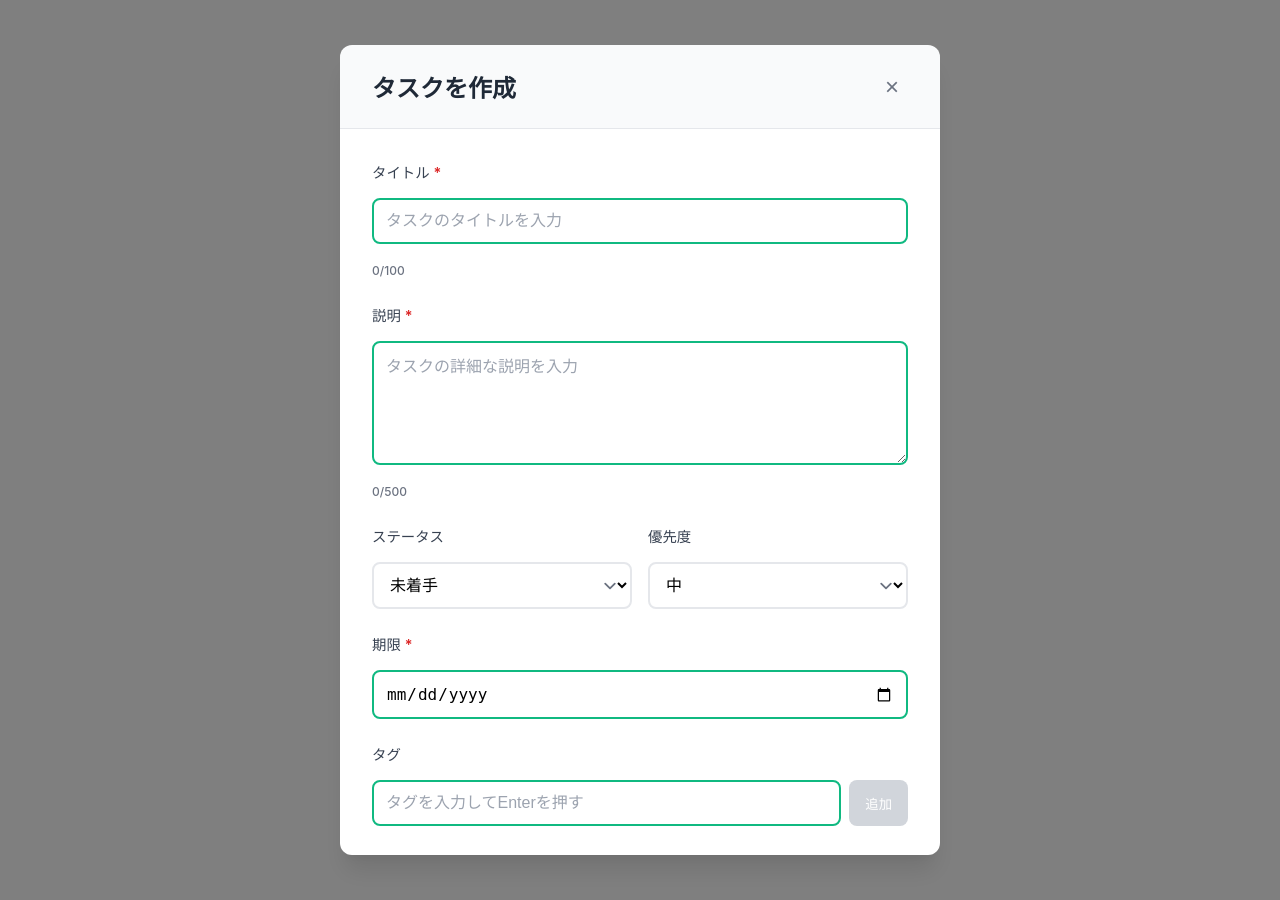
Test: TaskForm Component › shows character count for title and description
In the field labelled "タイトル *": coordinates (640, 221) [372, 198, 908, 244], type "Test"
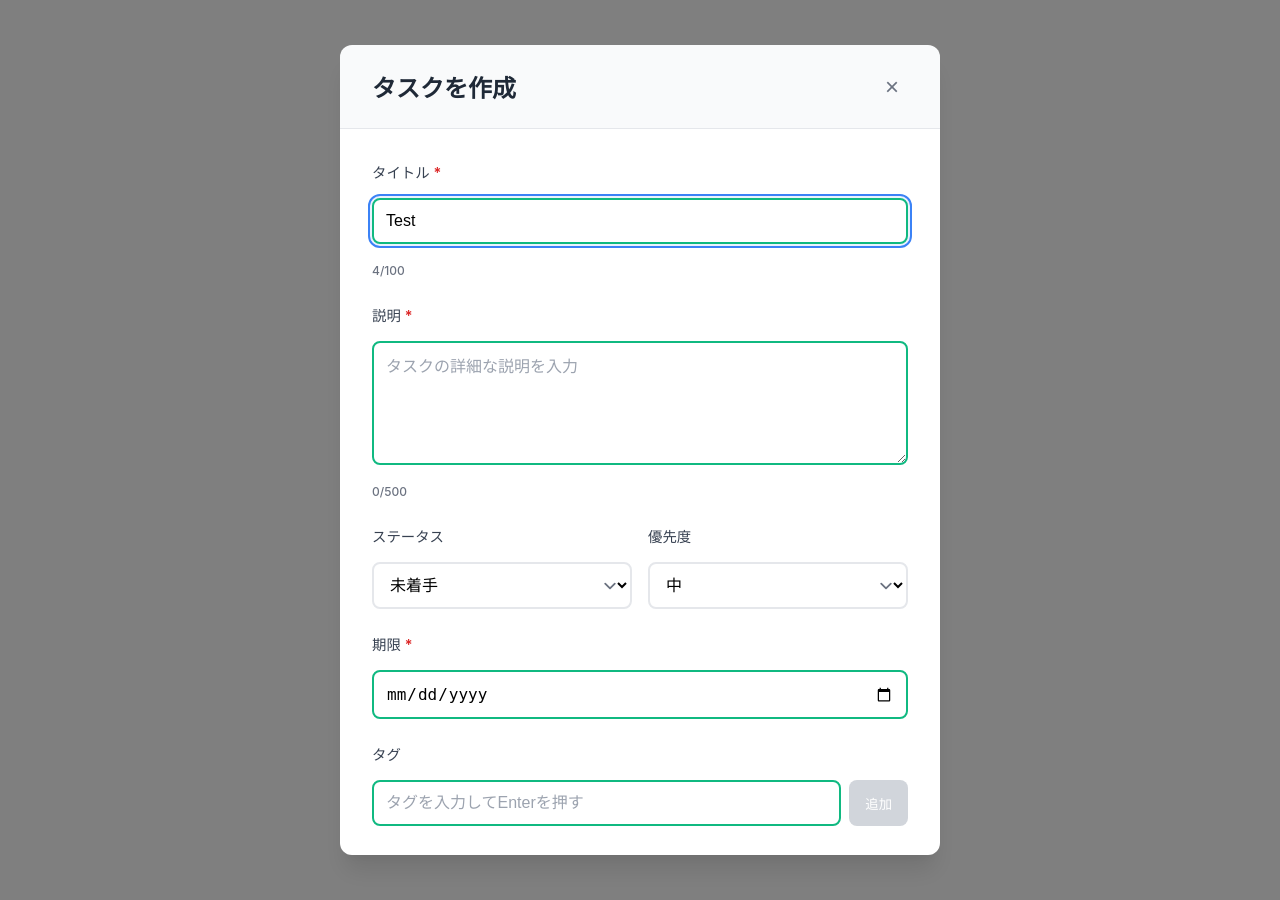
In the text box labelled "説明 *": coordinates (640, 403) [372, 341, 908, 465], type "Test description"
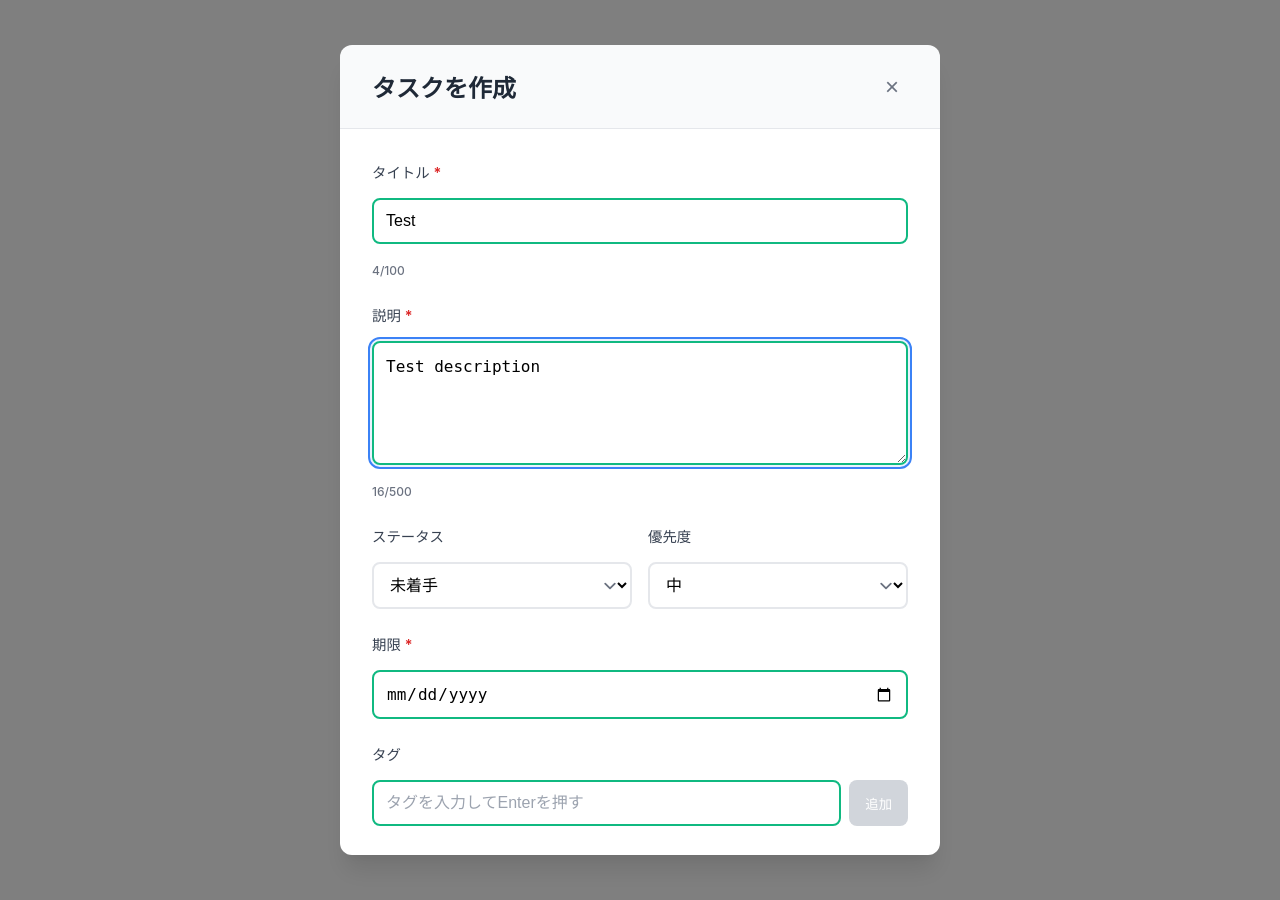
Expected: the text "4/100" is shown, [372, 262, 405, 278]
Expected: the text "16/500" is shown, [372, 484, 412, 498]
